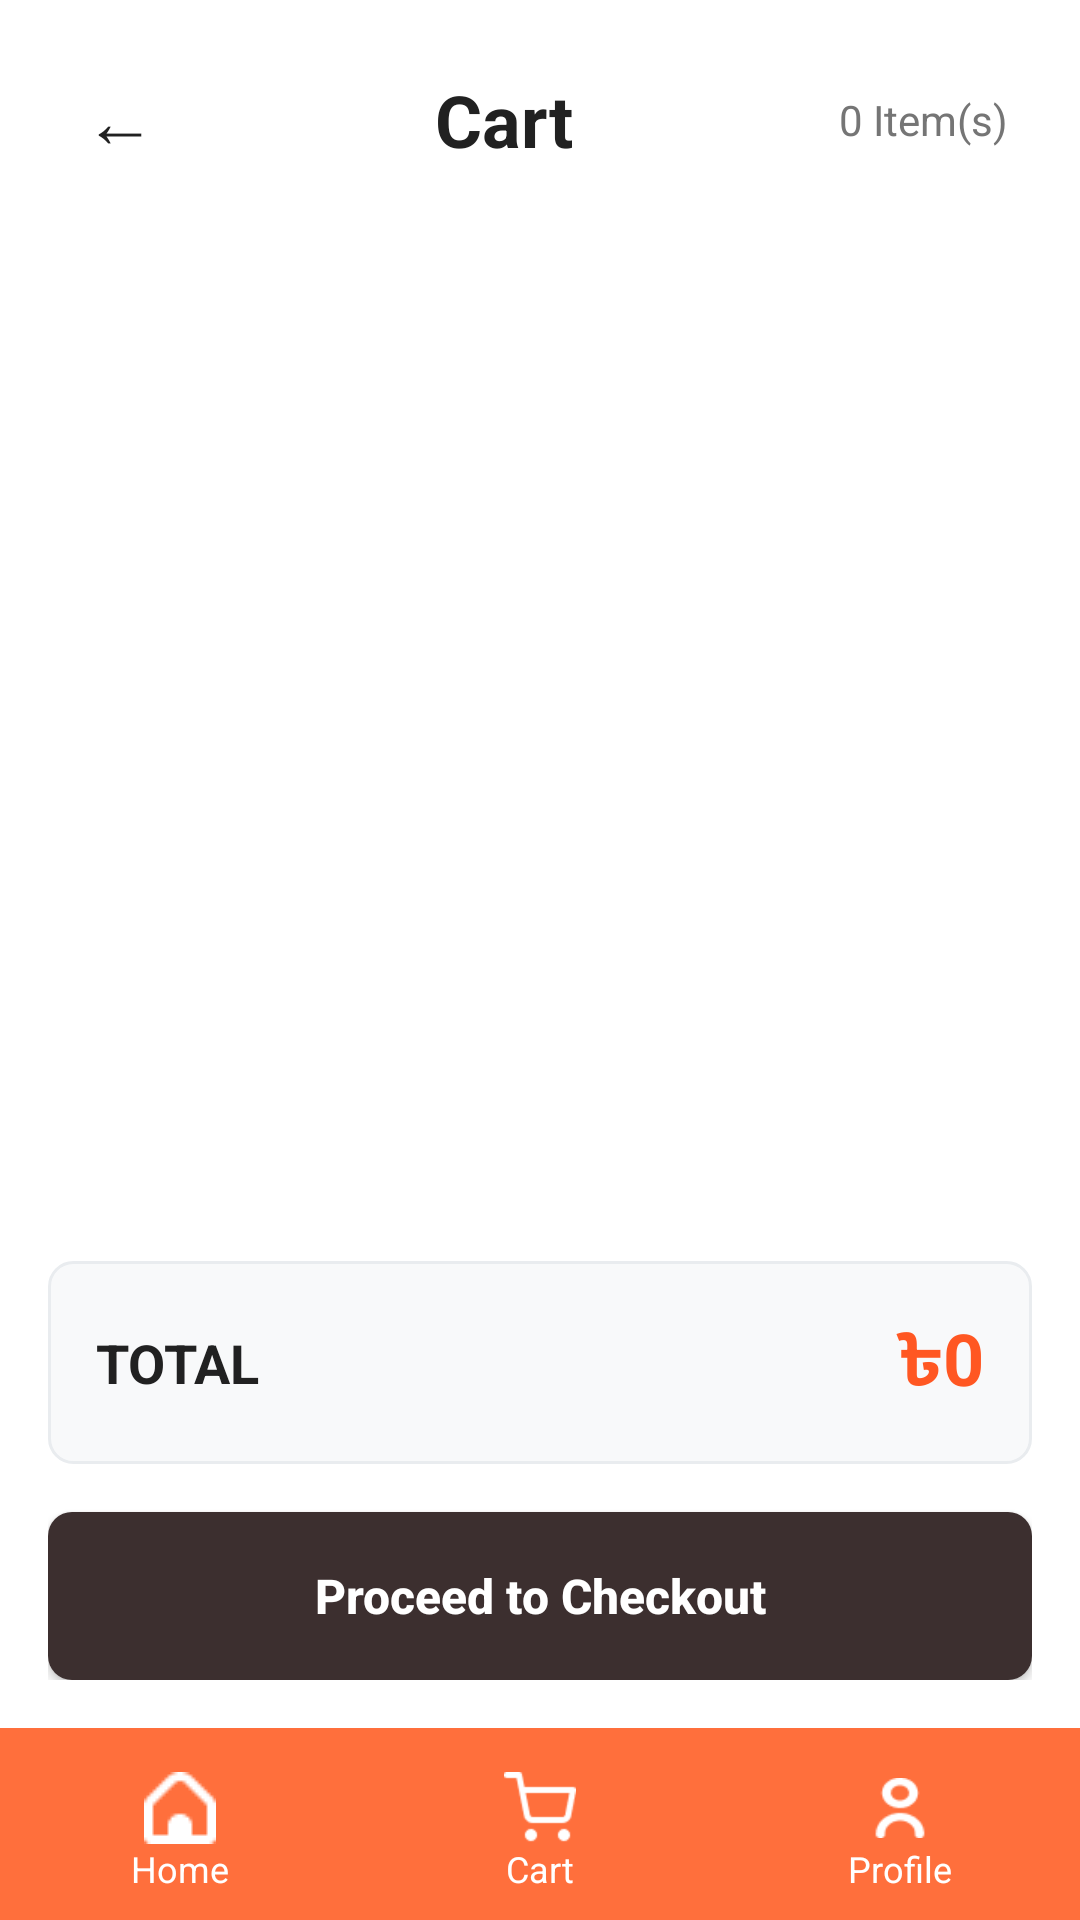

Named icons in this screenshot (1080w x 1920h) and their bounding boxes, (x1, y1, x2, y2):
user: (875, 1778, 925, 1838)
